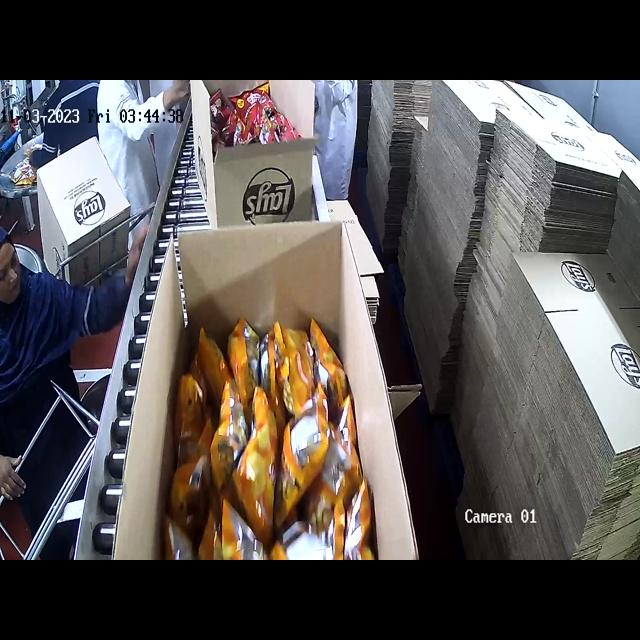cheese: (187, 314, 370, 560)
